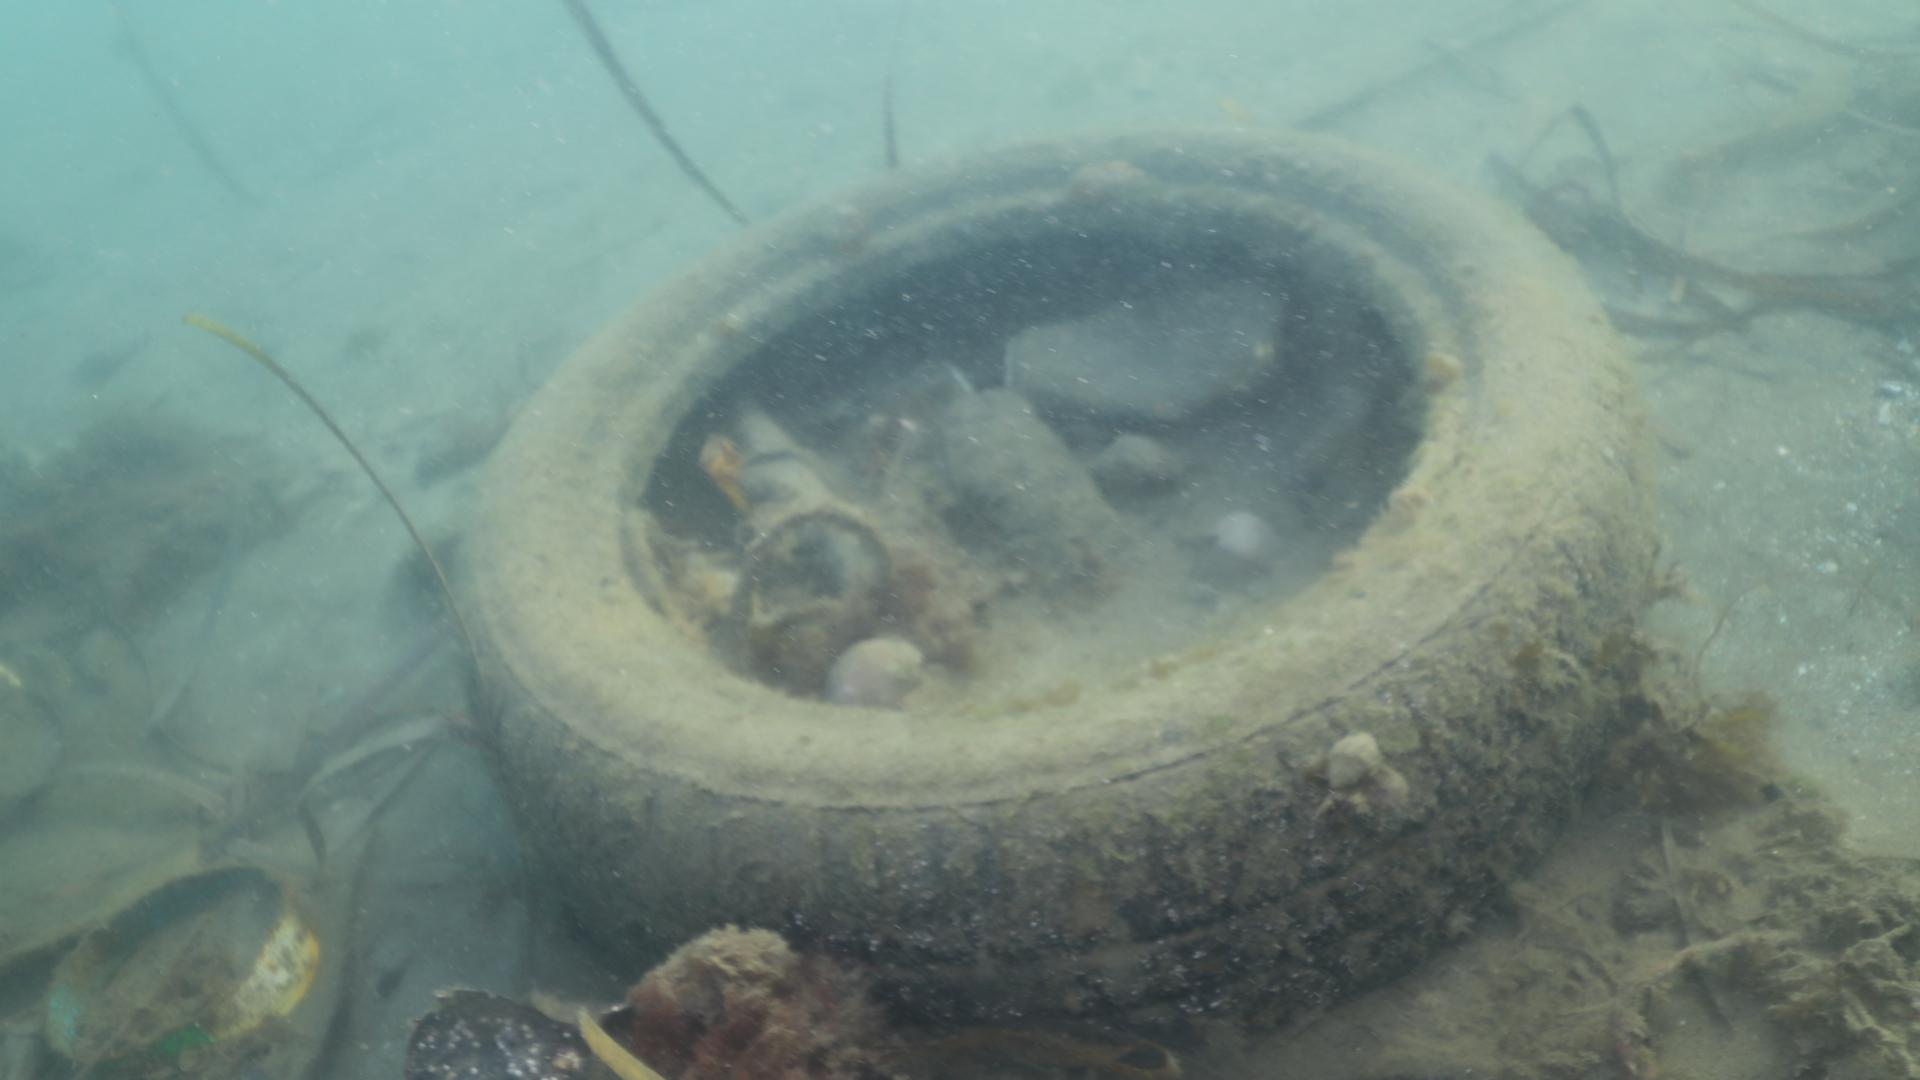tire: (443, 112, 1652, 1080)
